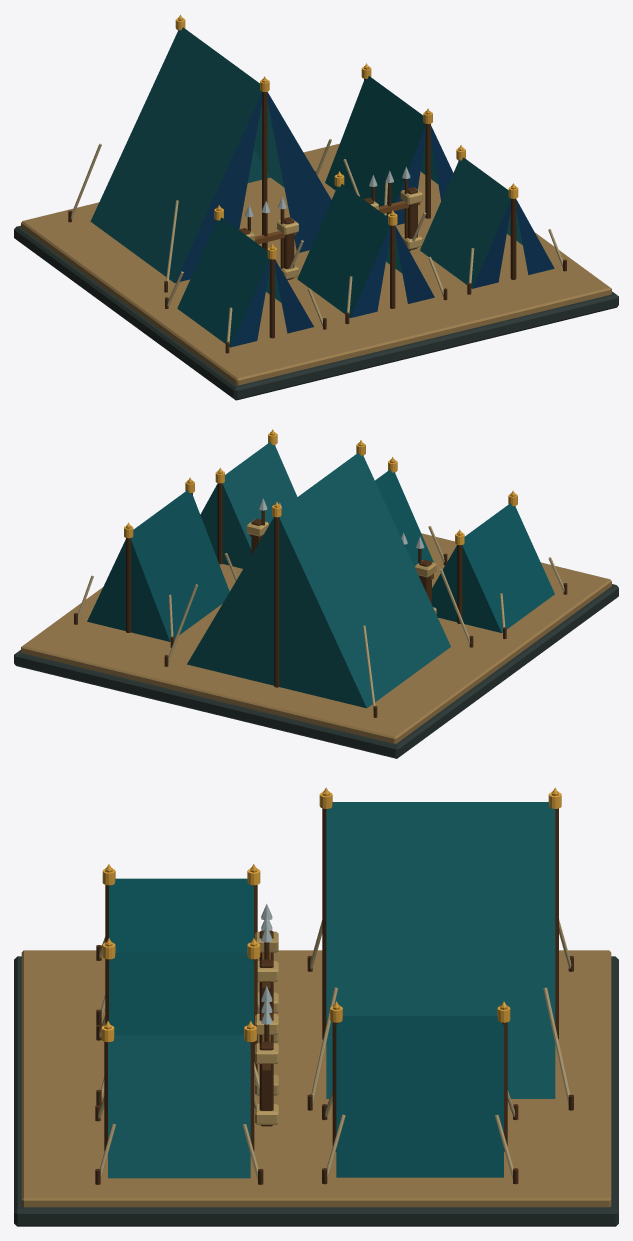
3 renders of one model, top to bottom at view 1: azimuth 30°, elevation 25°; view 2: azimuth 150°, elevation 25°; view 3: azimuth 270°, elevation 25°, orthographic. The views are drawn at different scales.
Visible parts, largest first — view 1: camp_level6_structure, camp_level6_metal; view 2: camp_level6_structure, camp_level6_metal; view 3: camp_level6_structure, camp_level6_metal.
Part boxes in pixels (left/top/right/bottom): camp_level6_structure: left=14, top=17, right=618, bottom=400; camp_level6_metal: left=175, top=15, right=518, bottom=259; camp_level6_structure: left=14, top=432, right=618, bottom=758; camp_level6_metal: left=124, top=429, right=517, bottom=545; camp_level6_structure: left=14, top=791, right=618, bottom=1226; camp_level6_metal: left=101, top=787, right=561, bottom=1042.
Bounding box in the file's own units: 5.6 × 2.87 × 5.6.
